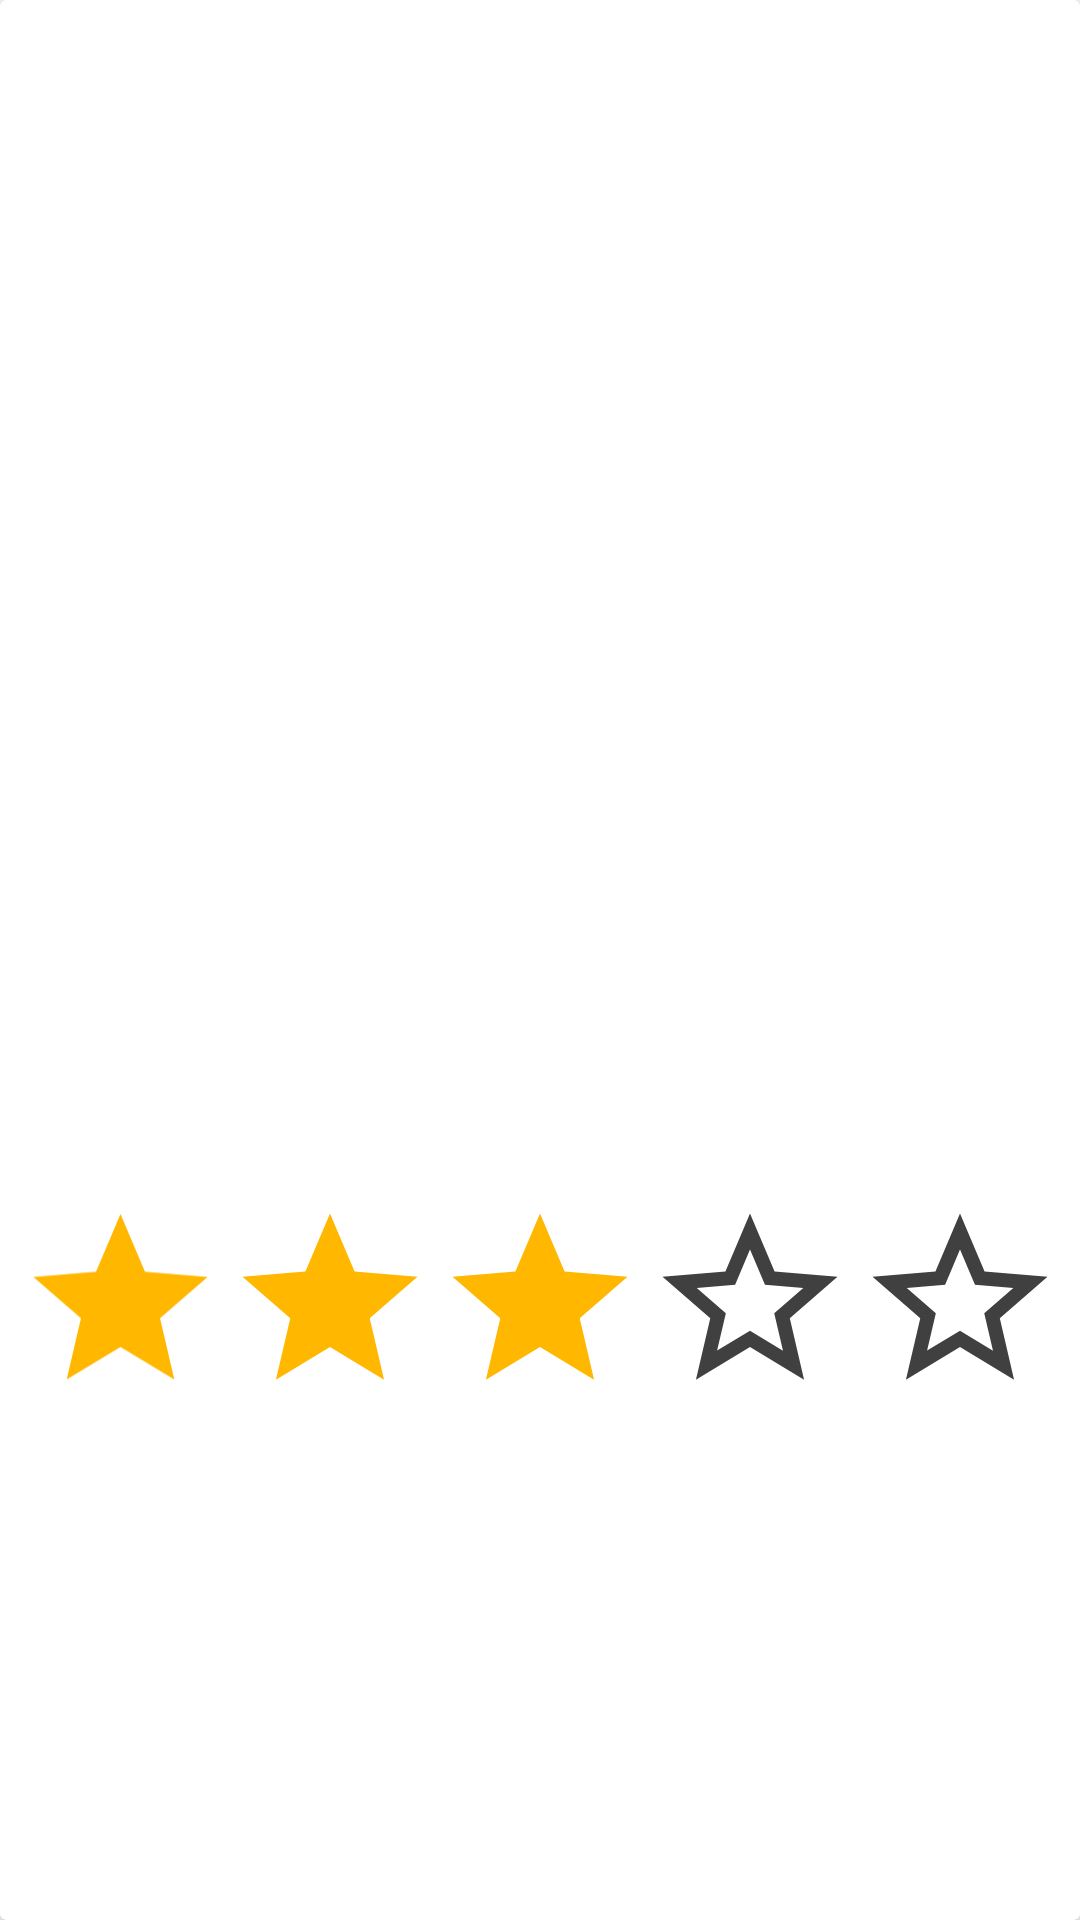

Named icons in this screenshot (1080px x 1920px) and their bounding boxes, box(x1, y1, x2, y2):
star: box(34, 1214, 207, 1380), box(243, 1214, 417, 1380), box(453, 1214, 627, 1380)
star empty: box(663, 1214, 837, 1380), box(873, 1214, 1047, 1380)
